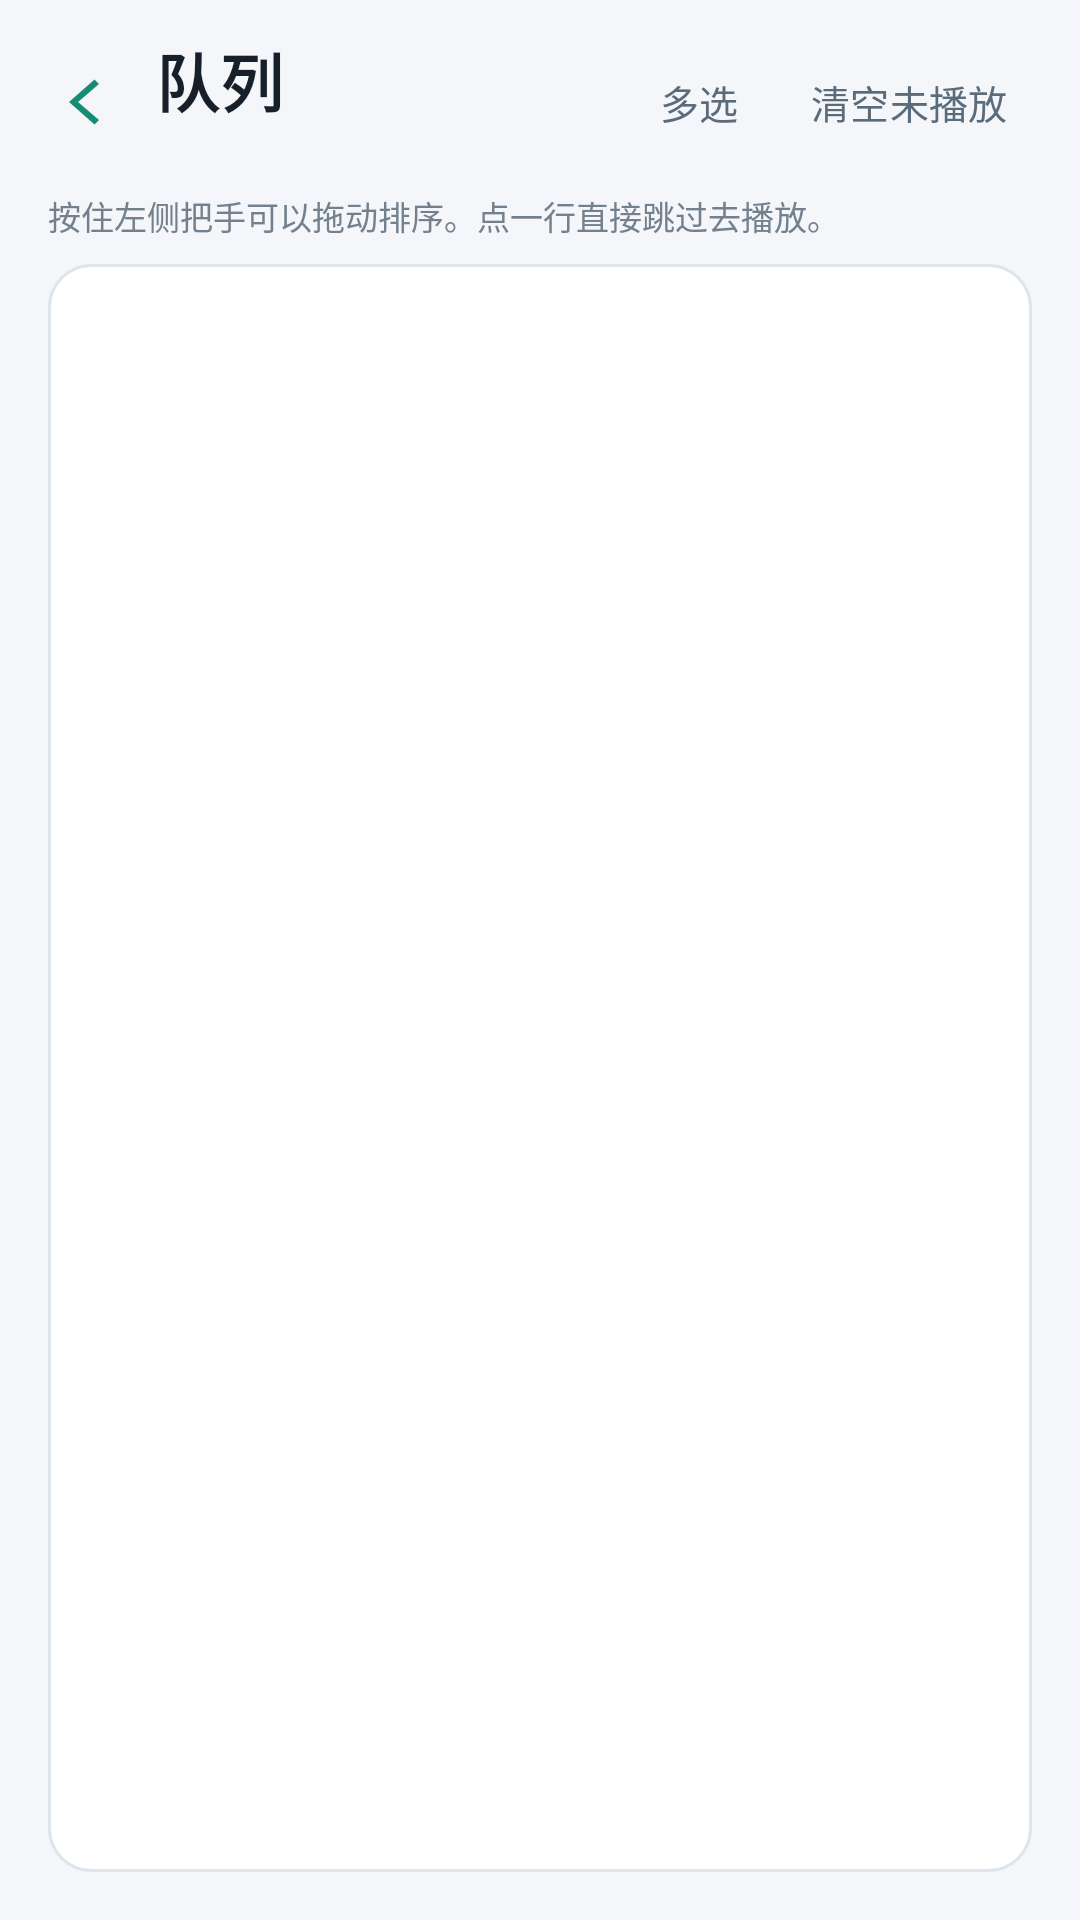

Named icons in this screenshot (1080 x 1920) and their centers, point (x, y):
返回: point (84, 102)
